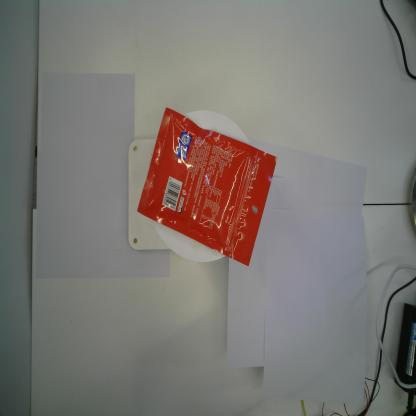Dried Fruit: (136, 107, 278, 268)
